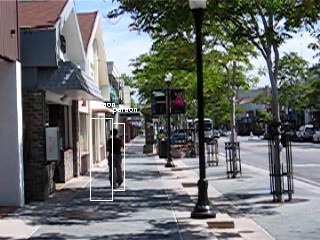person: (107, 128, 126, 189), (106, 128, 125, 189), (108, 128, 127, 189), (107, 127, 126, 188), (107, 129, 126, 190)
target_negative: (65, 55, 228, 229), (54, 43, 174, 218), (49, 182, 320, 229), (168, 167, 310, 240), (256, 235, 319, 240), (290, 209, 300, 227)
